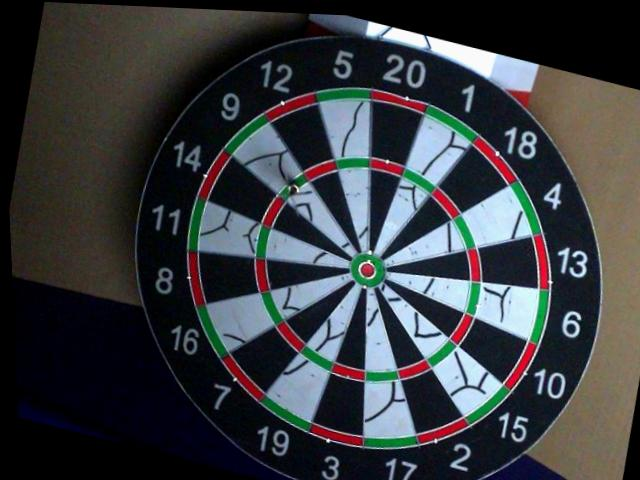triple_9: (279, 175, 307, 201)
